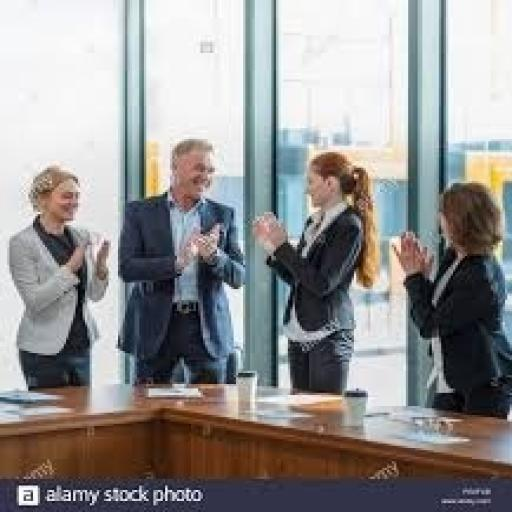clapping: (116, 135, 248, 386), (248, 148, 380, 395), (387, 179, 510, 419), (5, 161, 113, 391)
